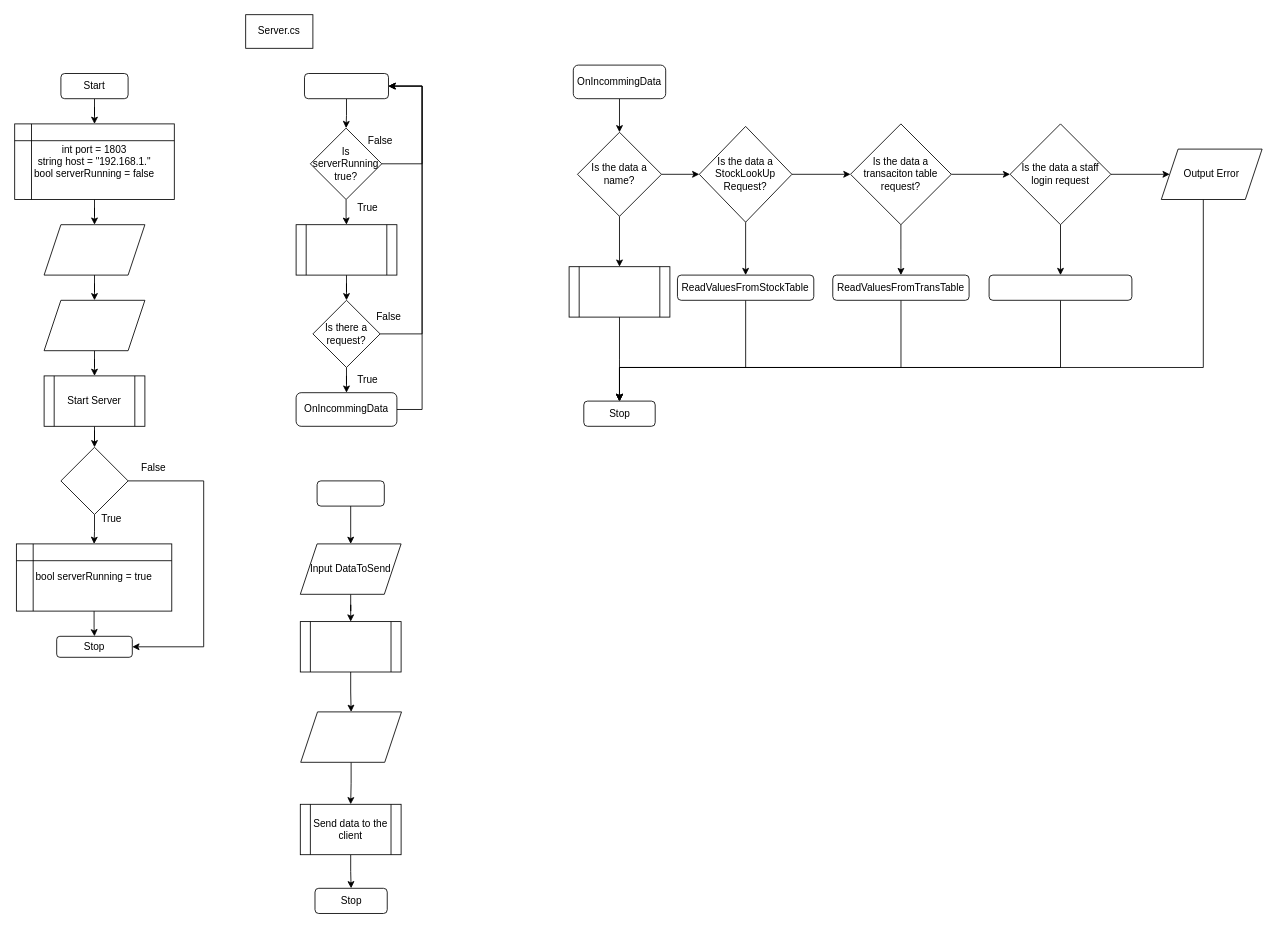
Some shapes in this 1277 by 928 pixel diagram are drawn without their labels. The shapes that lost their labels are listed below. From the top down, each one's centre as x and y in pixels, then its label:
At point (346, 86): "Update".
At point (94, 249): "Input port".
At point (346, 249): "Check for requests".
At point (619, 291): "Set clientName to the recieved name".
At point (1060, 287): "ReadValuesFromStaffTable".
At point (94, 325): "Input host".
At point (94, 480): "If Server Started correctly".
At point (350, 493): "Send".
At point (350, 646): "Encrypt the data".
At point (351, 736): "Input ClientName".
